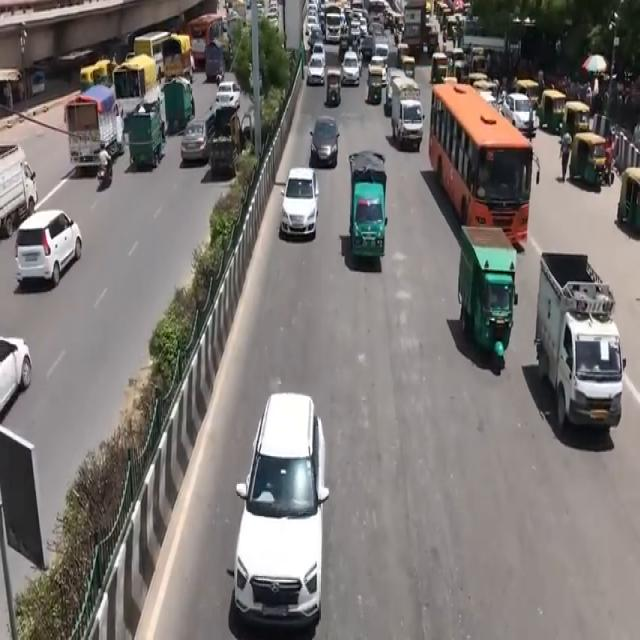BUS: (431, 84, 537, 245)
TRUCK: (538, 256, 624, 441), (0, 148, 36, 245)
